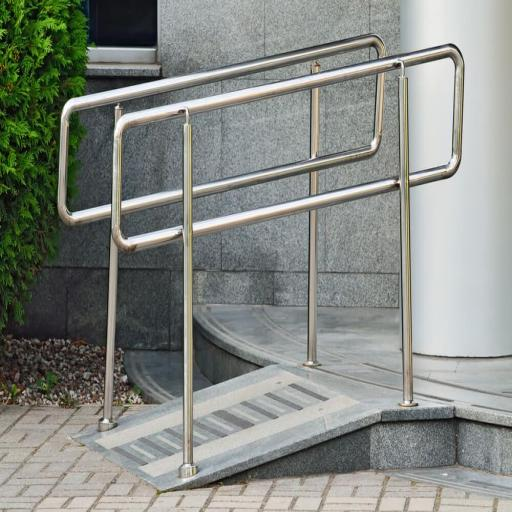pole: (54, 27, 466, 490)
